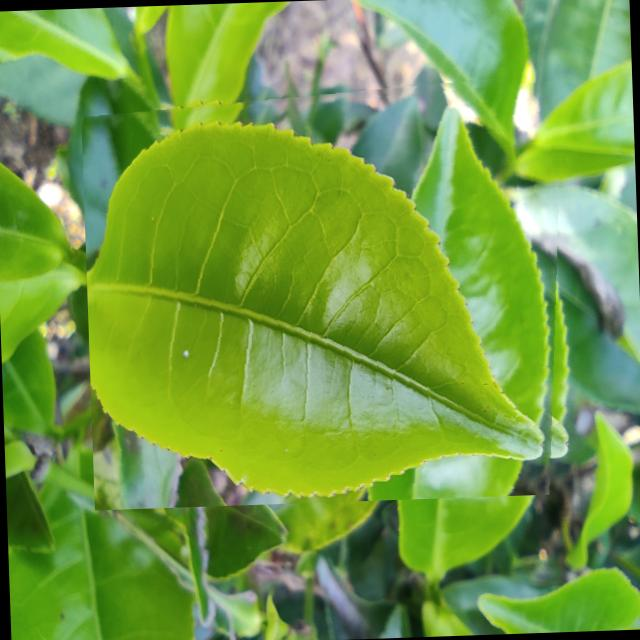Category B(2-4 days): (80, 72, 577, 510)
